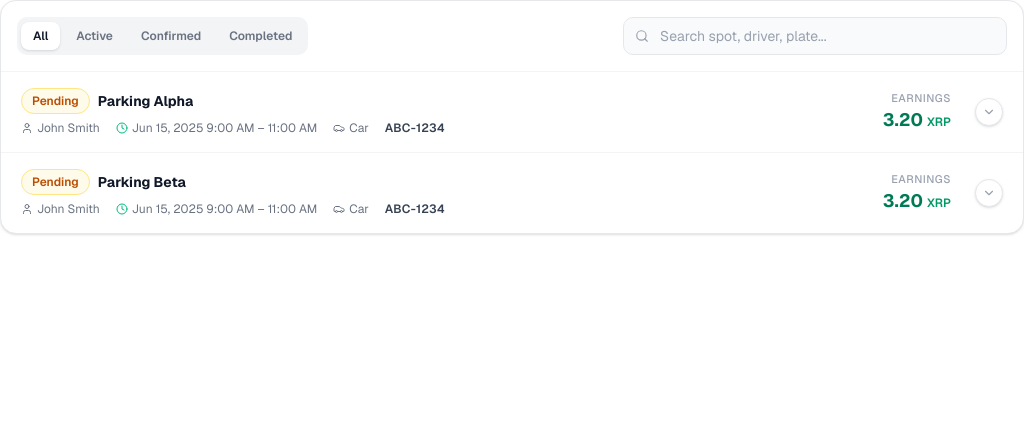
BookingList Component › Multiple Bookings - Expand Behavior › expanding one booking shows its details
Click the heading "Parking Alpha". click: (145, 101)
box: [98,91,193,111]
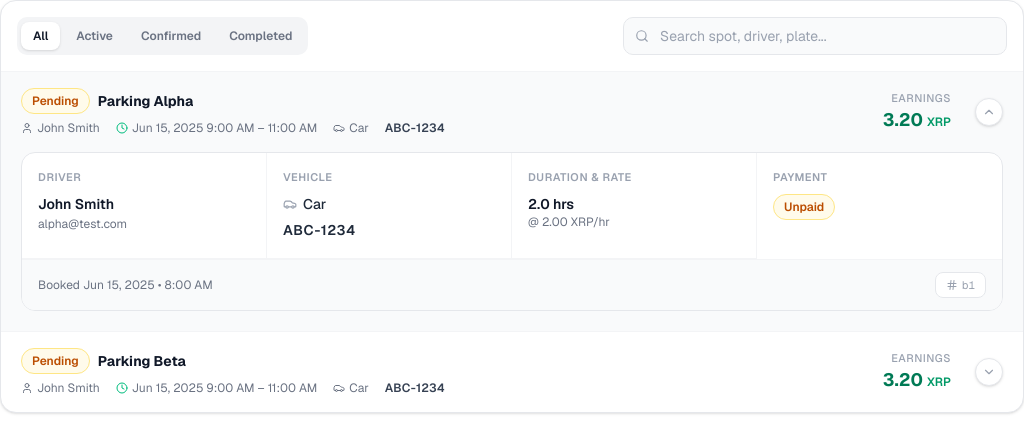
Expected: the text "alpha@test.com" is shown, [38,216,127,232]
